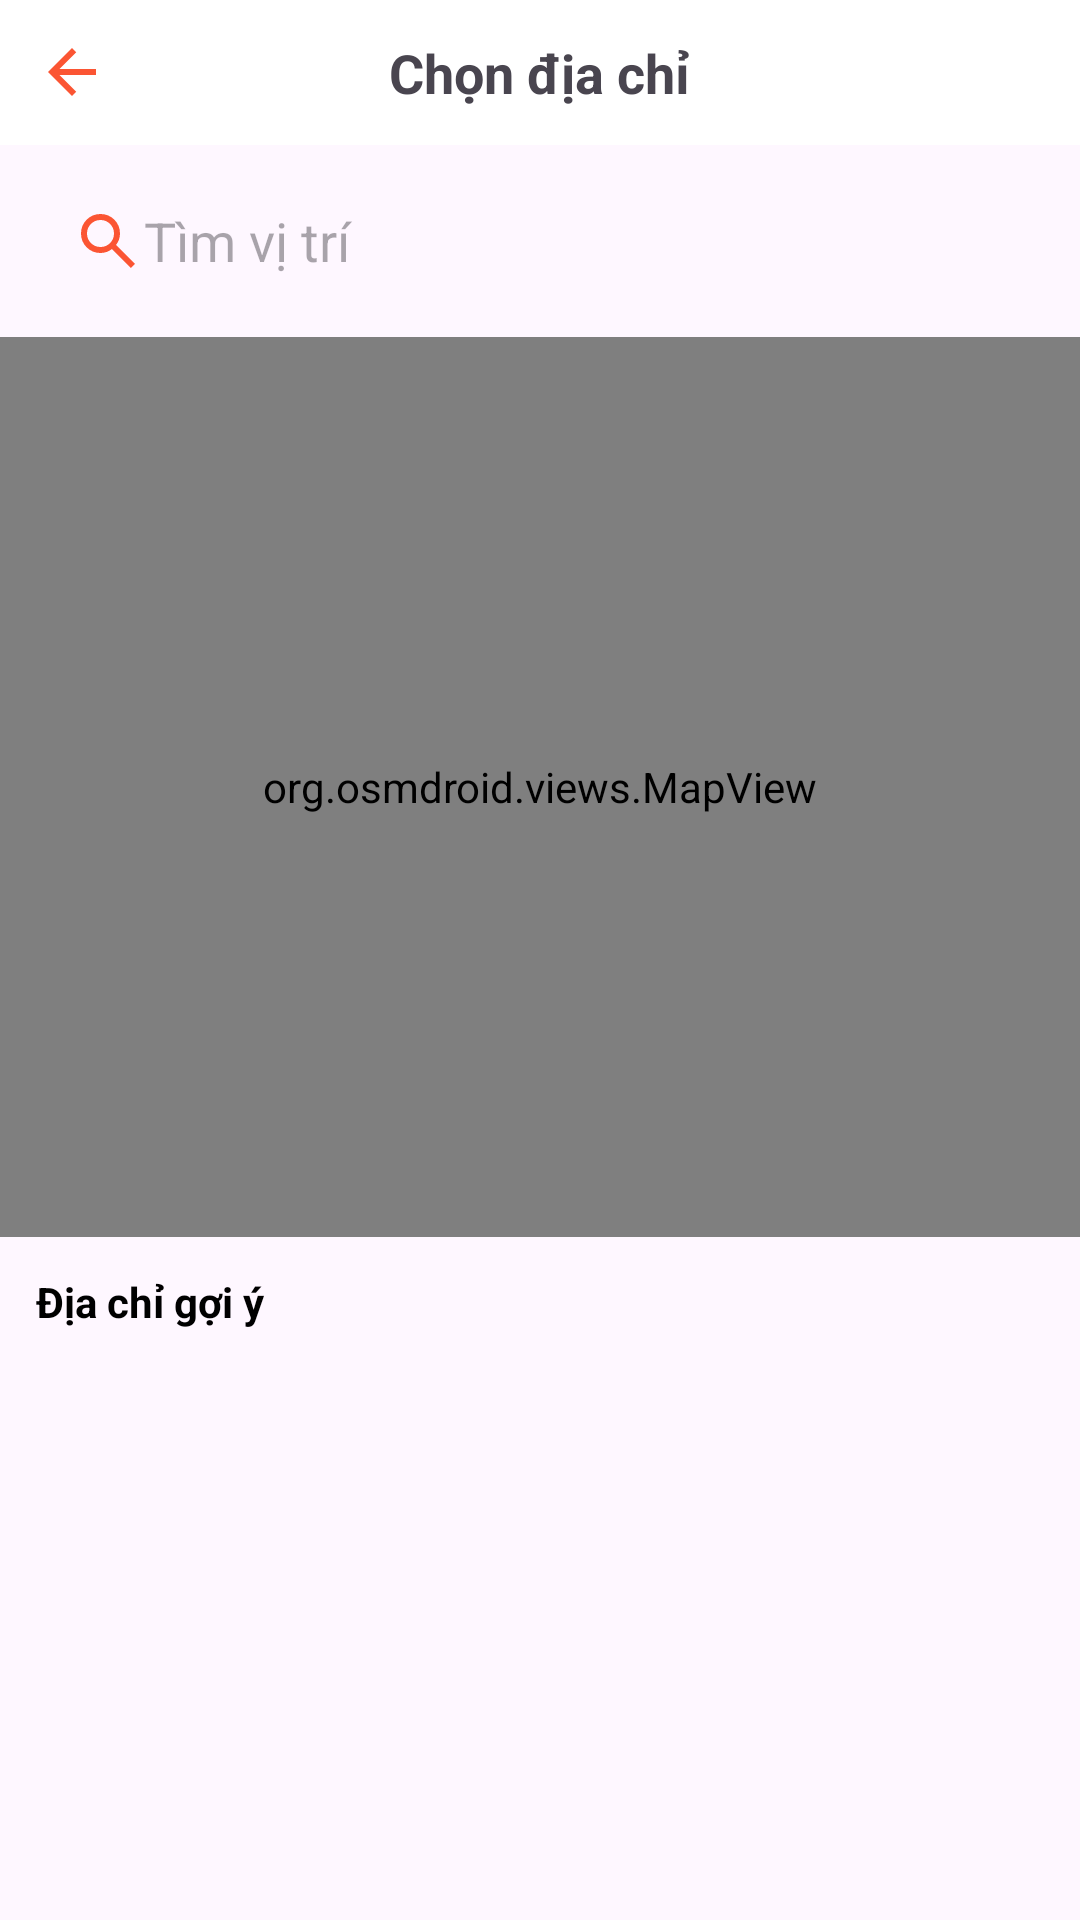

Named icons in this screenshot (1080w x 1920h) and their bounding boxes, (x1, y1, x2, y2):
back: (48, 48, 96, 96)
